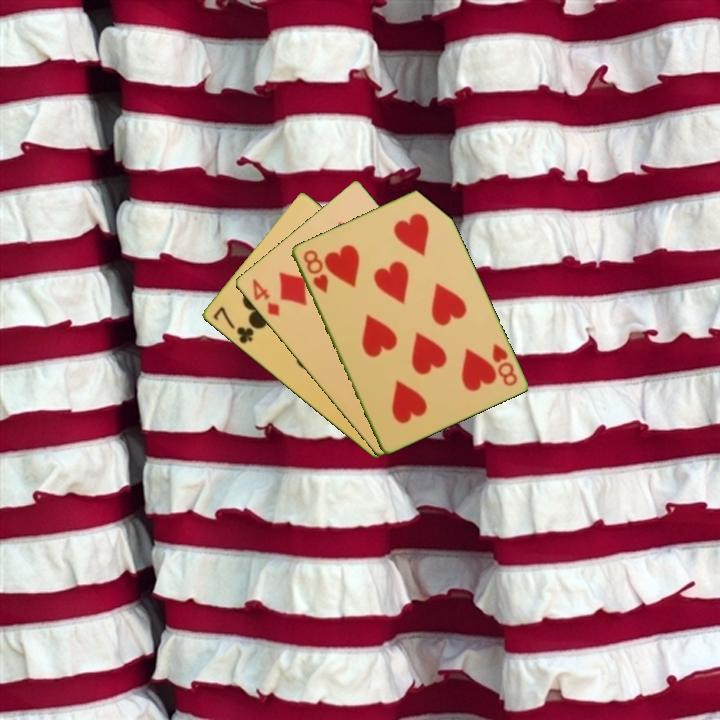4d: (248, 275, 282, 319)
7c: (209, 303, 257, 347)
8h: (299, 246, 331, 296), (488, 340, 520, 389)
